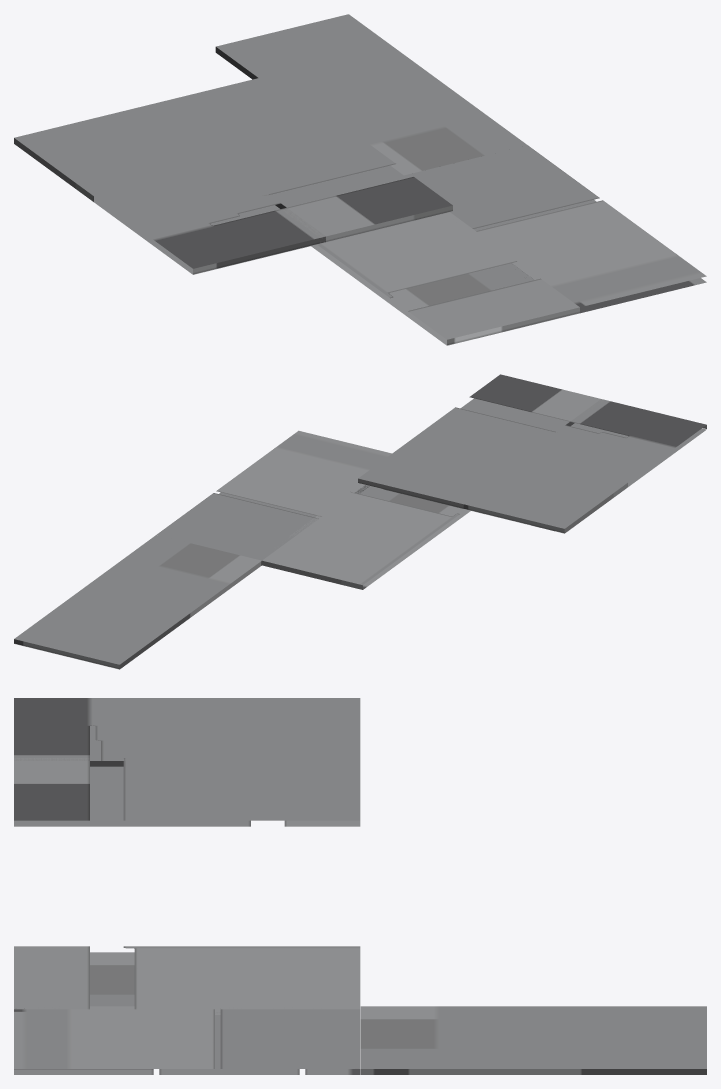
3 renders of one model, top to bottom at view 1: azimuth 30°, elevation 25°; view 2: azimuth 150°, elevation 25°; view 3: azimuth 270°, elevation 25°, orthographic. The views are drawn at different scales.
Bounding box in the file's own units: 4.06 × 1.05 × 4.9.
